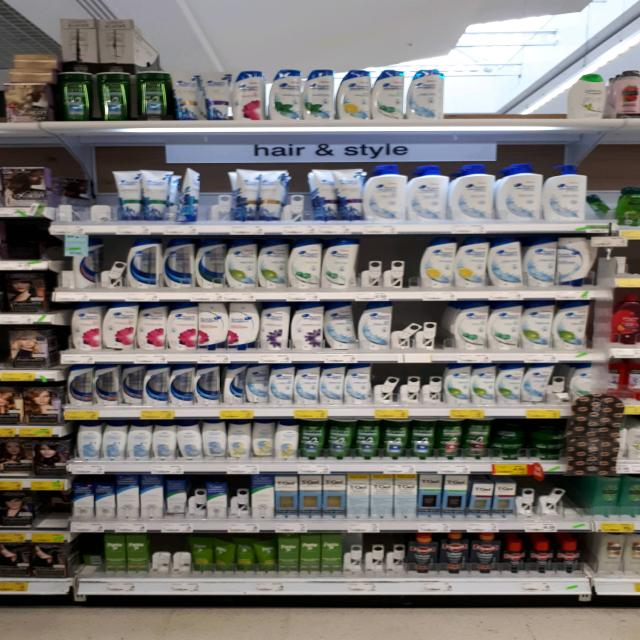empty: (442, 66, 577, 123), (506, 474, 577, 525), (57, 161, 120, 217), (388, 301, 455, 351), (357, 243, 429, 288), (364, 372, 443, 413), (275, 161, 325, 221), (202, 156, 240, 233), (1, 216, 57, 267), (140, 530, 194, 575), (344, 537, 412, 571), (94, 239, 131, 286), (79, 531, 107, 580), (229, 472, 251, 520), (179, 477, 201, 522)
